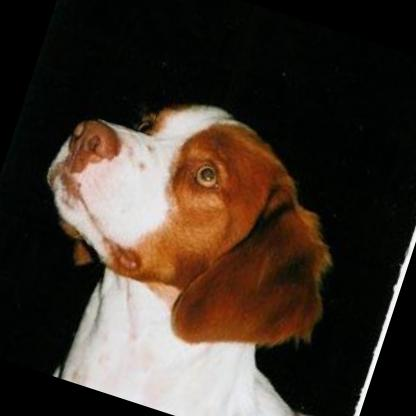Brittany_spaniel: (0, 62, 416, 416)
